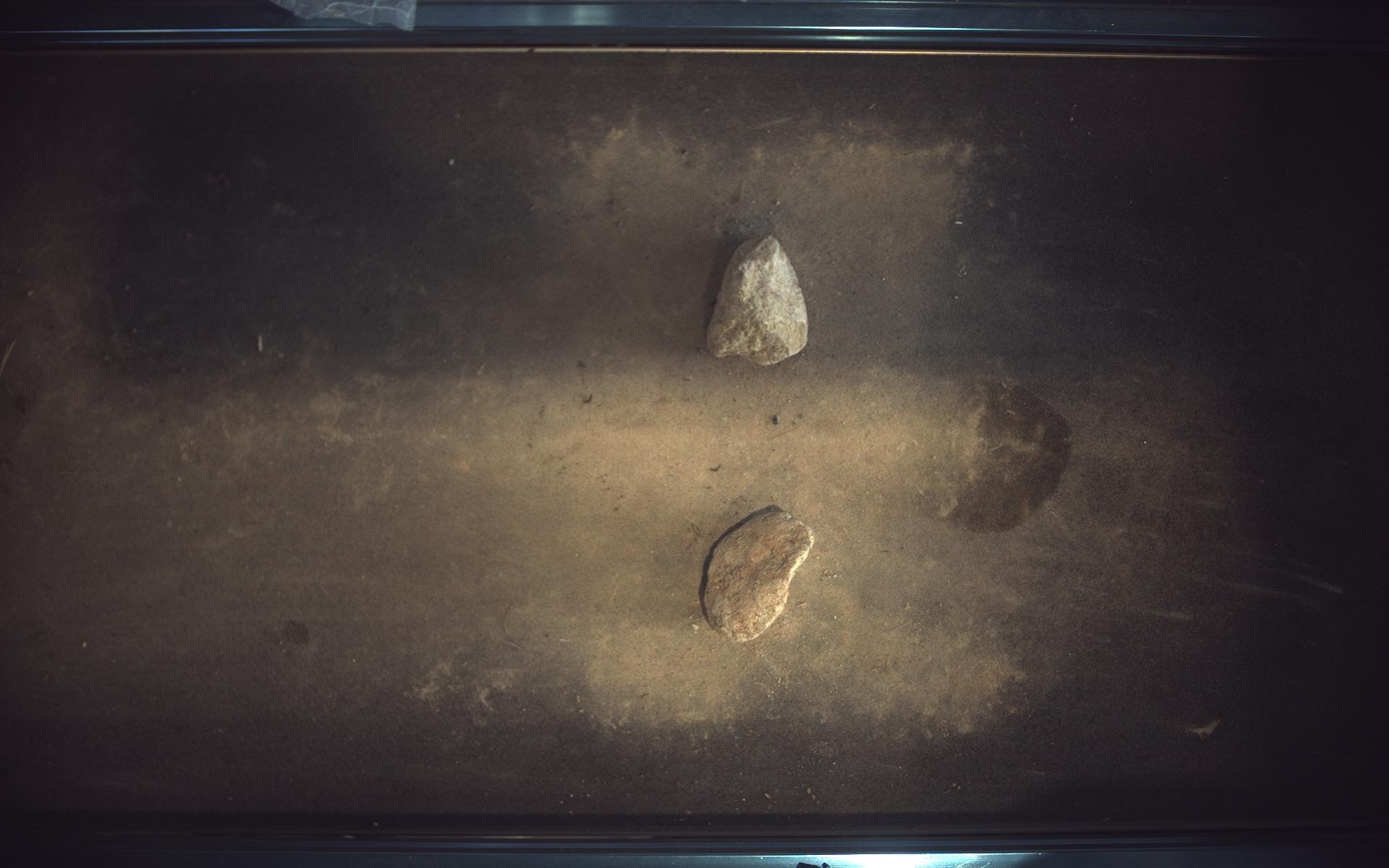stone: (702, 506, 816, 642), (708, 236, 810, 365)
